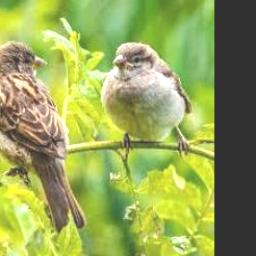Sparrow: (0, 40, 86, 233), (101, 42, 194, 157)
